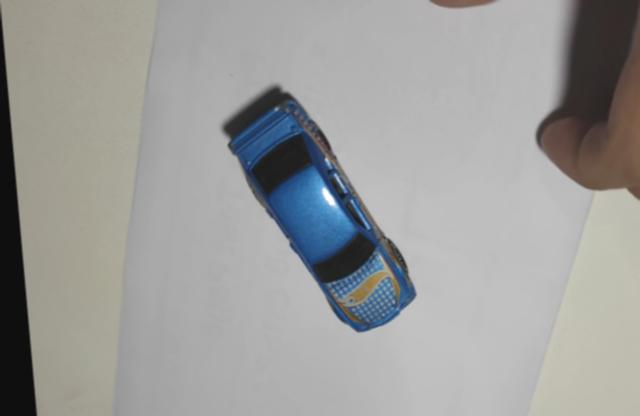04_MERZEDES: (219, 84, 412, 332)
